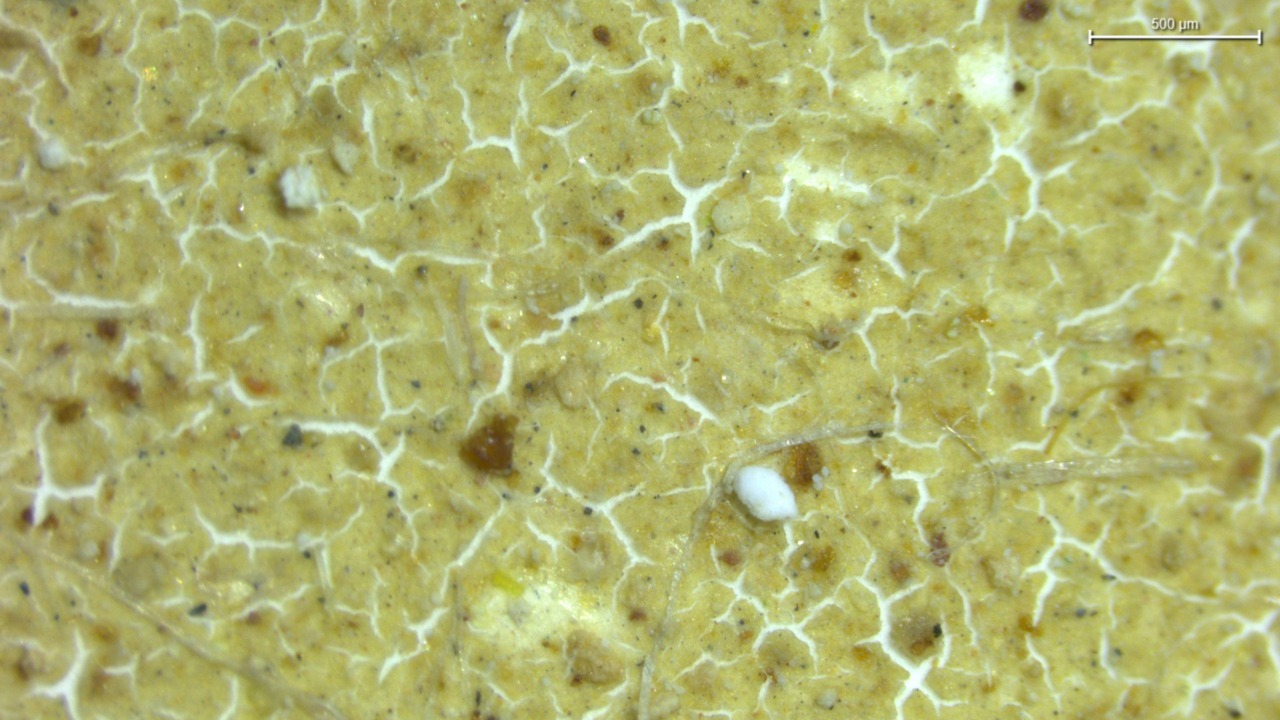microplastic_fragment: (731, 466, 798, 522), (279, 164, 320, 208), (37, 139, 72, 170)
